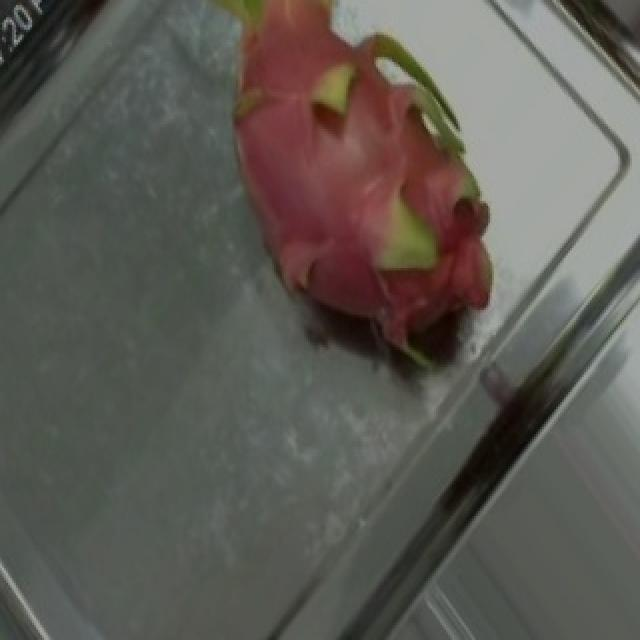fruit: (170, 0, 620, 419)
